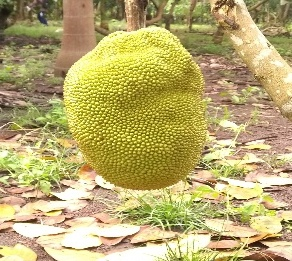Mit: (60, 30, 212, 188)
